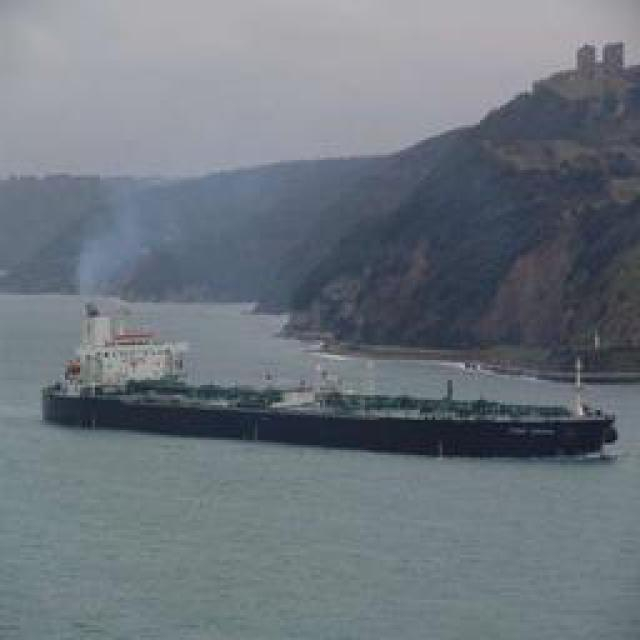Ship: (48, 303, 623, 461)
